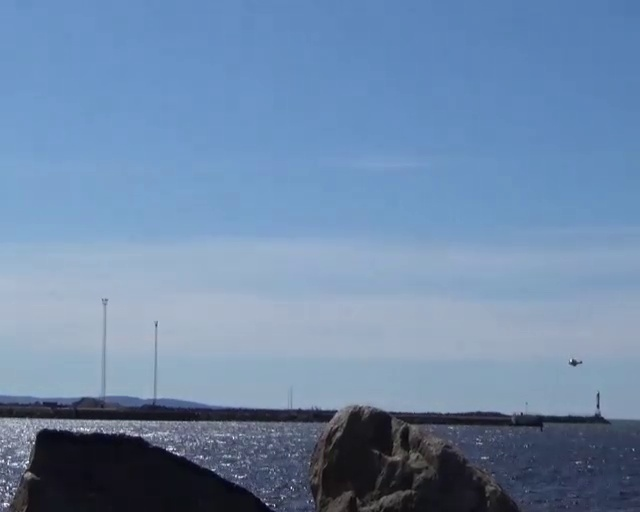HELICOPTER: (568, 356, 582, 366)
